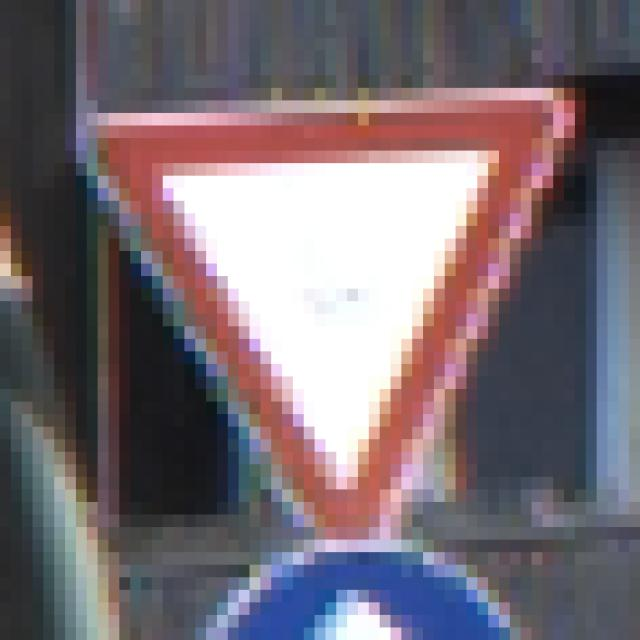Give Way: (66, 64, 587, 578)
